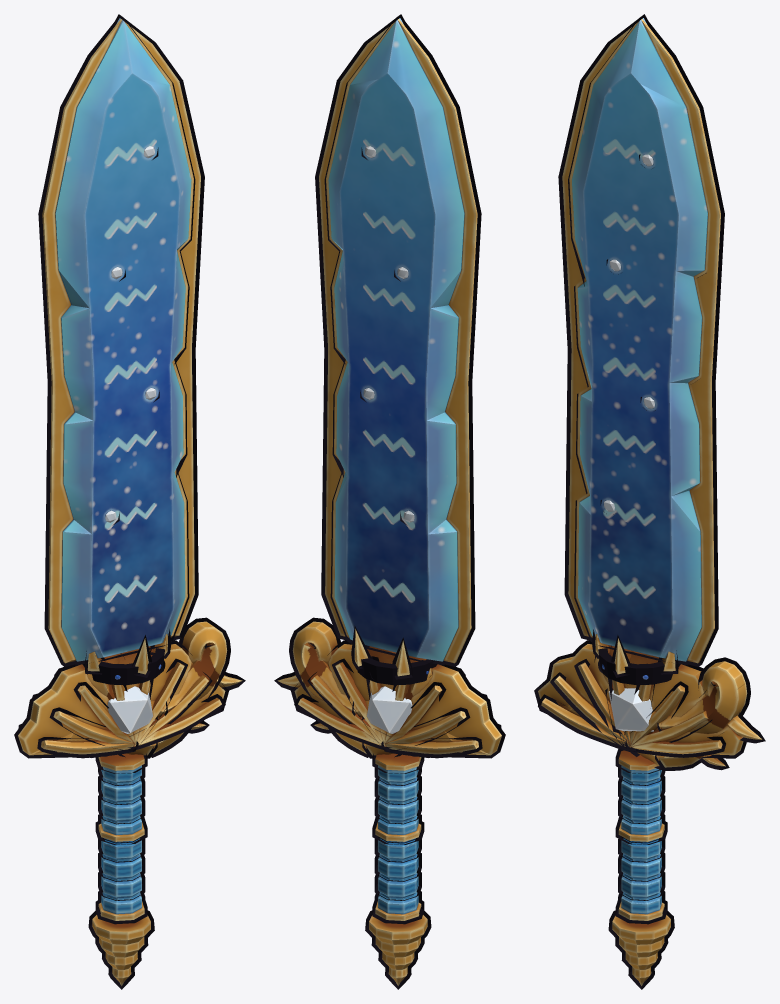
The model's file is OceanKingBlade.fbx.
The picture shows the model from 3 angles, left to right: view 1: azimuth 30°, elevation 25°; view 2: azimuth 150°, elevation 25°; view 3: azimuth 330°, elevation 25°; orthographic projection.
Parts seen in each view (by area): view 1: OceanKingBlade, OceanKingBladeOutline, OceanKingBladePearlGlow; view 2: OceanKingBlade, OceanKingBladeOutline, OceanKingBladePearlGlow; view 3: OceanKingBlade, OceanKingBladeOutline, OceanKingBladePearlGlow.
Part boxes in pixels (x1=…): OceanKingBlade: x1=18, y1=18, x2=242, y2=985; OceanKingBladeOutline: x1=14, y1=14, x2=245, y2=989; OceanKingBladePearlGlow: x1=105, y1=146, x2=156, y2=733; OceanKingBlade: x1=277, y1=18, x2=501, y2=985; OceanKingBladeOutline: x1=274, y1=14, x2=505, y2=989; OceanKingBladePearlGlow: x1=363, y1=146, x2=414, y2=733; OceanKingBlade: x1=538, y1=18, x2=761, y2=985; OceanKingBladeOutline: x1=534, y1=14, x2=765, y2=989; OceanKingBladePearlGlow: x1=604, y1=154, x2=654, y2=731.
Bounding box in the file's own units: 148 × 603 × 55.43.
Materials: 2 (1 with a texture image).
